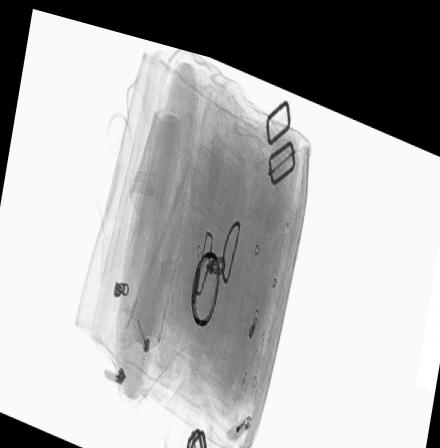Lighter: (225, 394, 253, 434)
